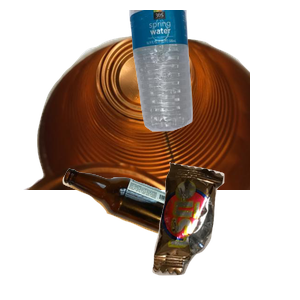glass: (60, 166, 241, 300)
metal: (21, 29, 261, 209)
plastic: (127, 10, 300, 134)
trash: (150, 160, 300, 300)
